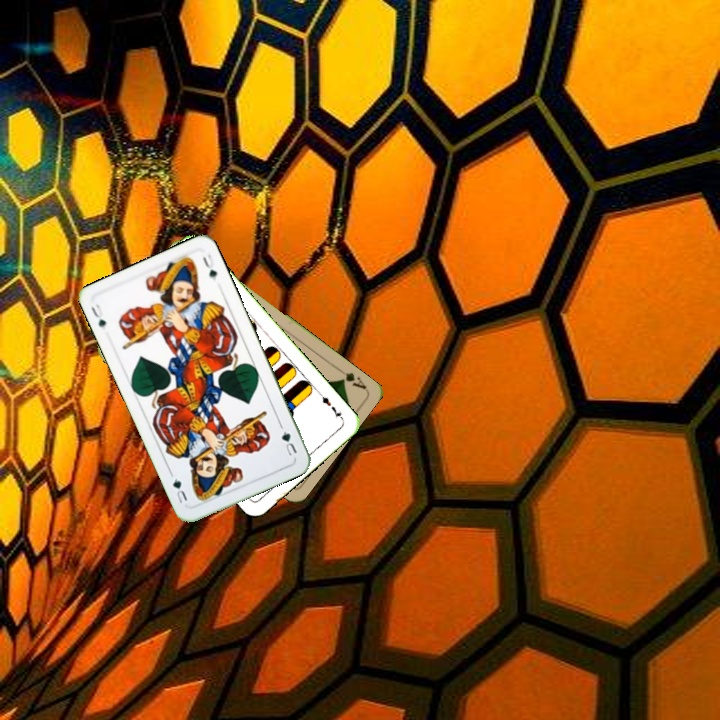E7: (315, 389, 346, 423)
GA: (332, 363, 369, 392)
GU: (276, 421, 300, 459), (87, 300, 109, 331)
